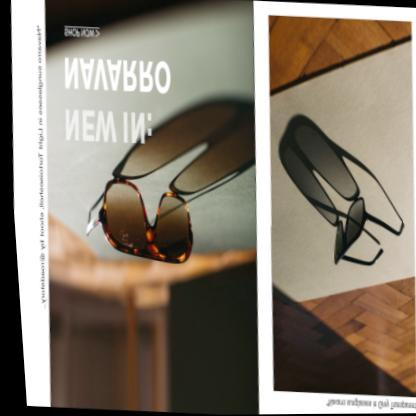Spectacles: (90, 174, 193, 266), (324, 195, 404, 273)
